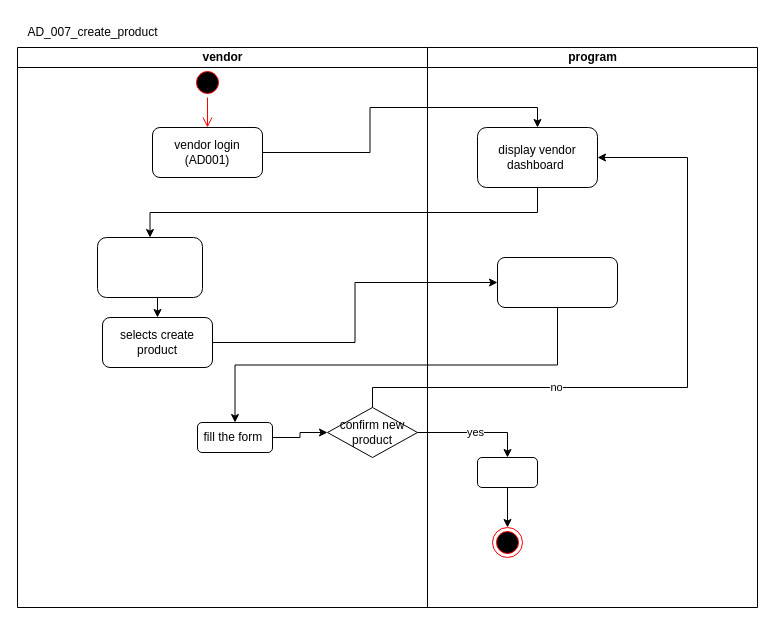
The diagram is 775 pixels wide and 625 high, and some of its shapes have lost their labels. The shapes that lost their labels are listed below. From the top down, each one's centre as x and y in pixels, then its label:
At point (149, 267): "navigates the vendor dashboard".
At point (557, 282): "display new product form".
At point (507, 472): "save data".
